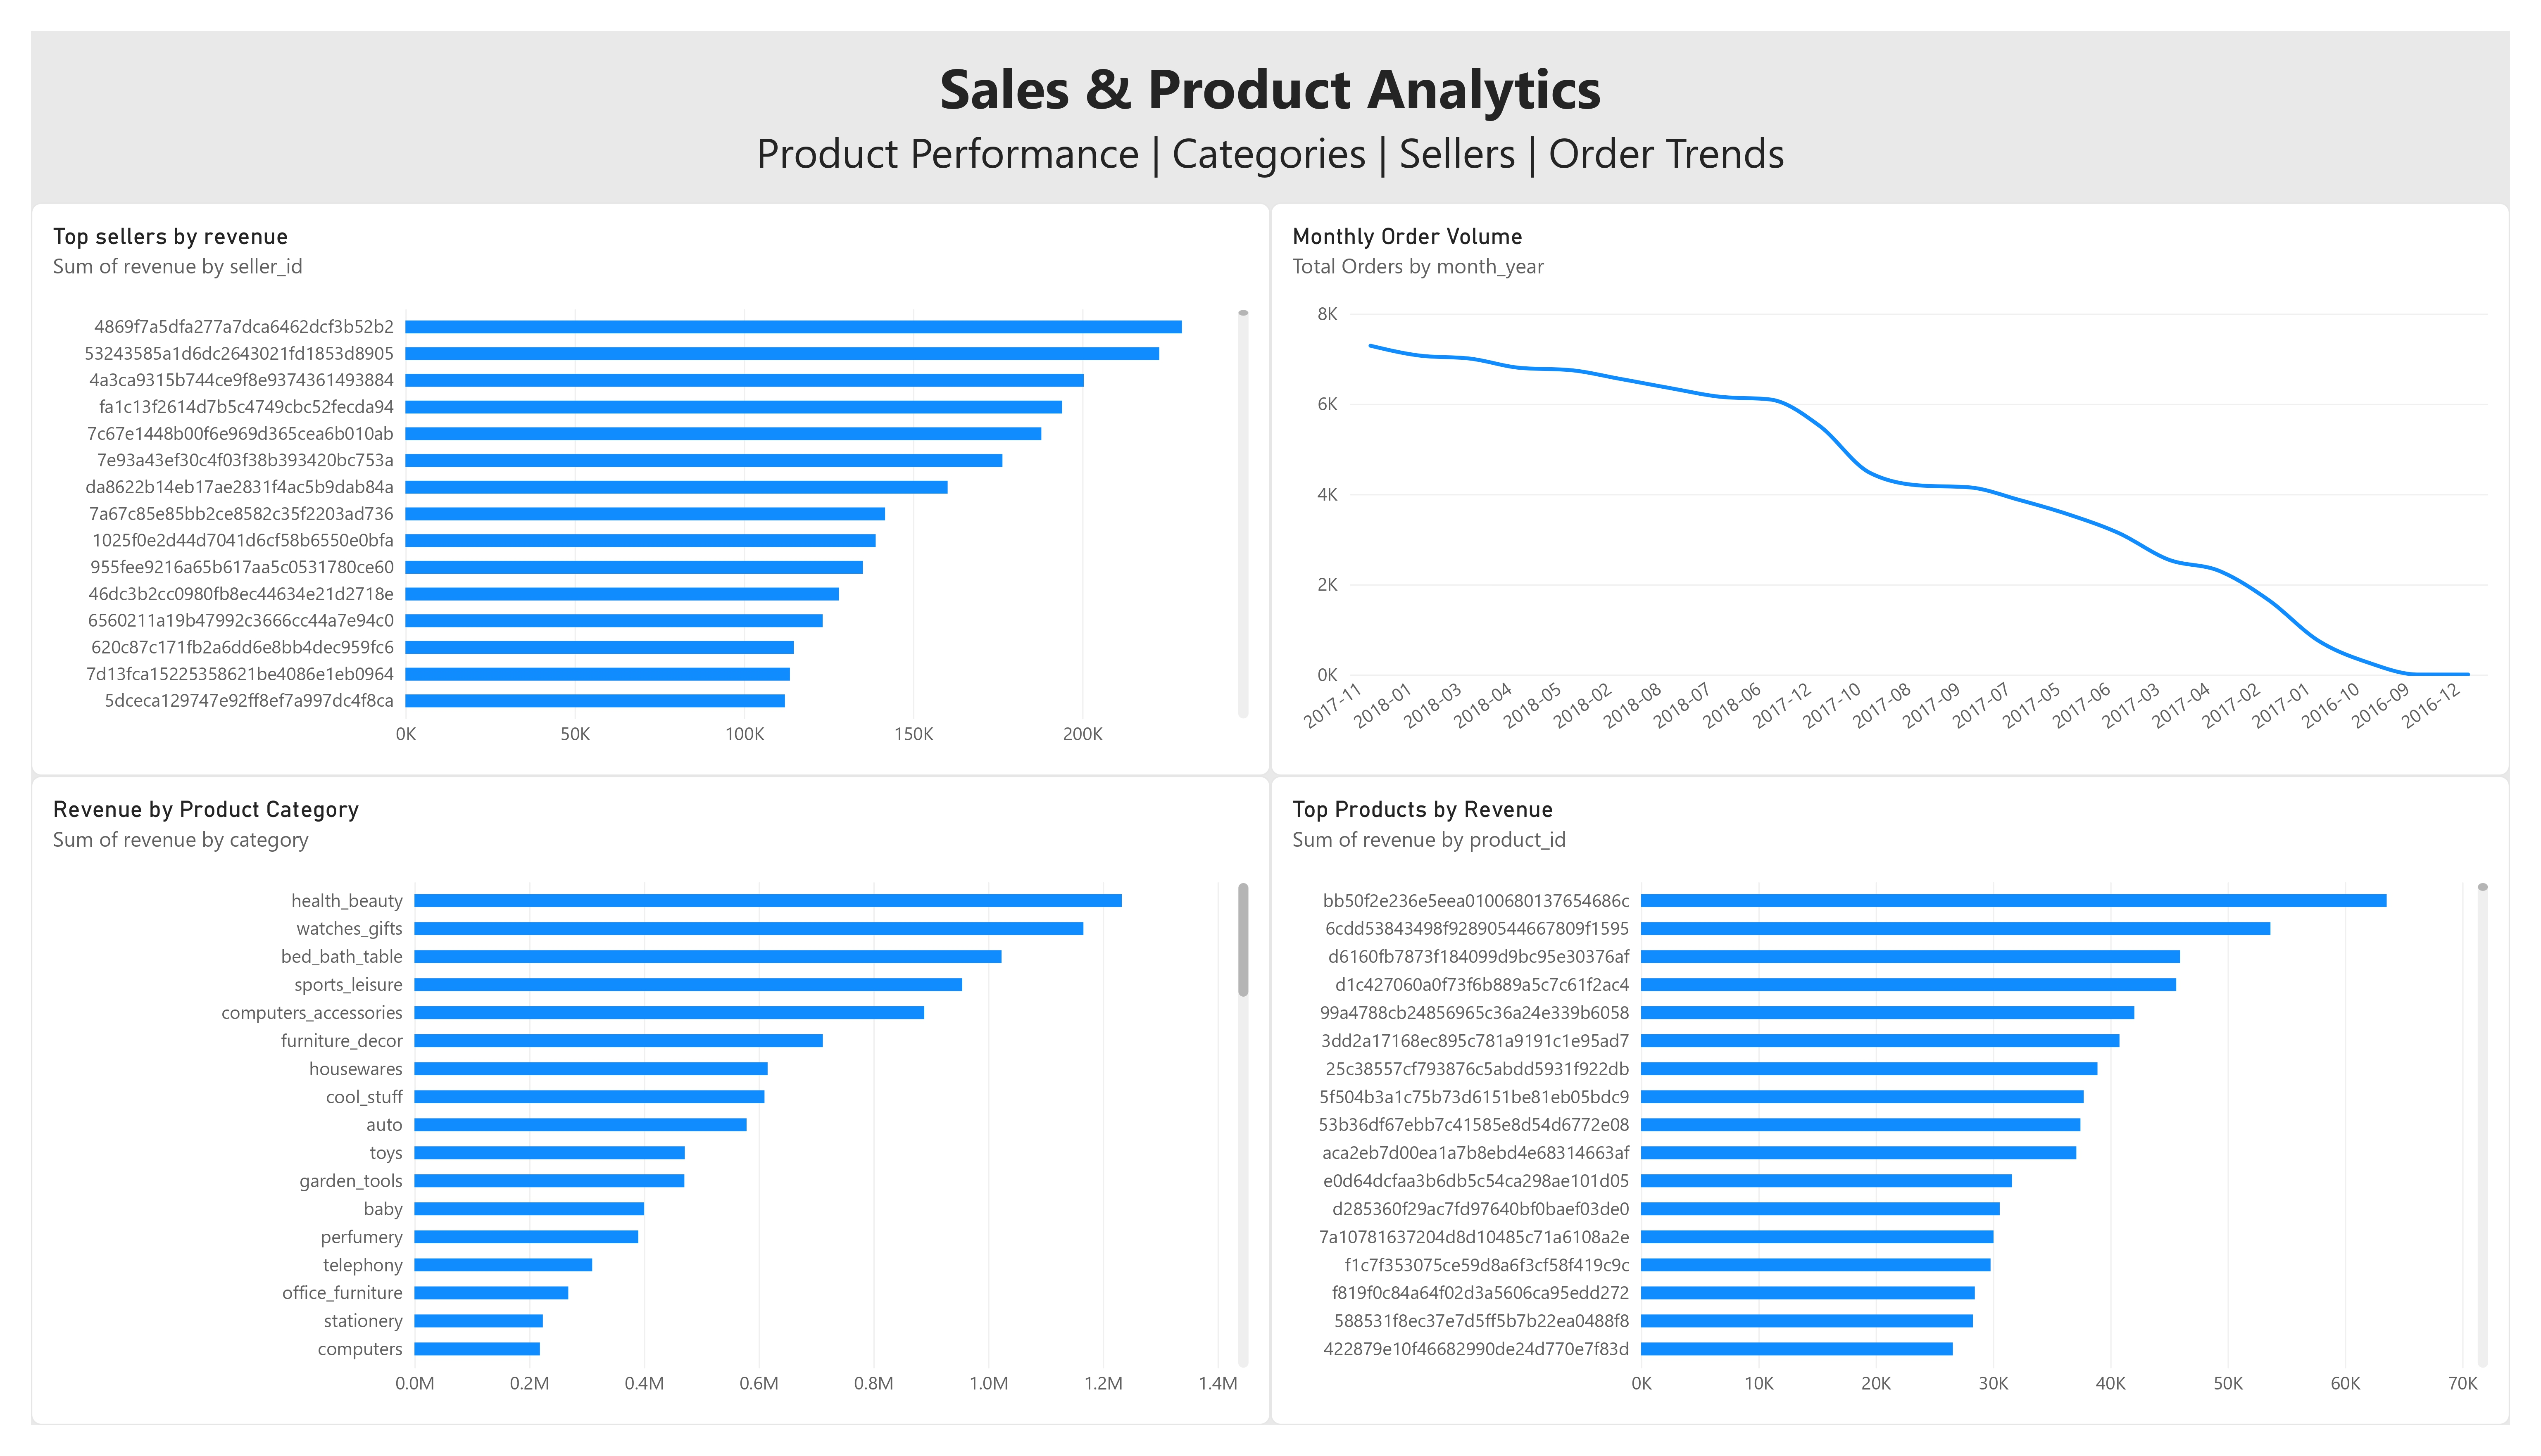

Layout of this report page (visuals, bound fields, positions):
{"tool":"powerbi","page":{"name":"Sales & Product Analytics","canvas":[1920,1080],"ordinal":1},"visuals":[{"type":"clusteredBarChart","title":"Revenue by Product Category","fields":{"Category":["analytics pbi_category_performance.category"],"Y":["Sum(analytics pbi_category_performance.revenue)"]},"box":[0,576.7,960,503.3],"z":0},{"type":"clusteredBarChart","title":"Top Products by Revenue","fields":{"Category":["analytics pbi_product_ranking.product_id"],"Y":["Sum(analytics pbi_product_ranking.revenue)"]},"box":[960,576.7,960,503.3],"z":1000},{"type":"lineChart","title":"Monthly Order Volume","fields":{"Category":["analytics pbi_monthly_performance.month_year"],"Y":["analytics pbi_monthly_performance.Total Orders"]},"box":[960,133.3,960,443.3],"z":3000},{"type":"clusteredBarChart","title":"Top sellers by revenue","fields":{"Category":["analytics pbi_seller_performance.seller_id"],"Y":["Sum(analytics pbi_seller_performance.revenue)"]},"box":[0,133.3,960,443.3],"z":4000},{"type":"textbox","box":[0,14,1920,120],"z":5000}]}

Visuals, with their boxes on the page's 1920x1080 design canvas (x1, y1, x2, y2). These are canvas units, not pixel positions in the 2541x1456 screenshot, which may show the page scaled, cropped or inside an application window:
"Revenue by Product Category" clusteredBarChart: select_region(0, 577, 960, 1080)
"Top Products by Revenue" clusteredBarChart: select_region(960, 577, 1920, 1080)
"Monthly Order Volume" lineChart: select_region(960, 133, 1920, 577)
"Top sellers by revenue" clusteredBarChart: select_region(0, 133, 960, 577)
textbox: select_region(0, 14, 1920, 134)
